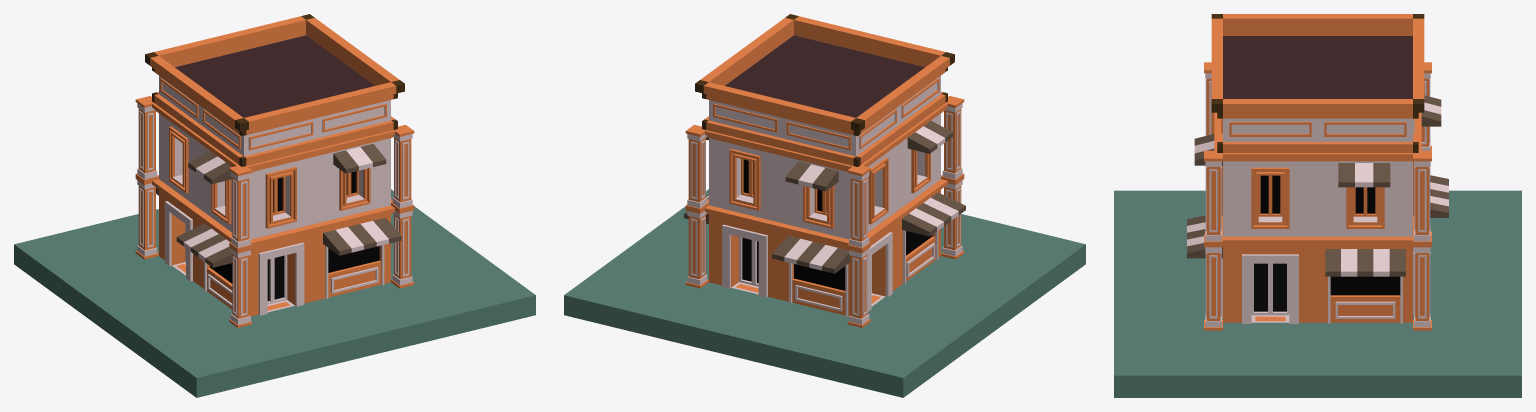
File: apartments building (1).fbx
3 renders of one model, left to right at view 1: azimuth 30°, elevation 25°; view 2: azimuth 150°, elevation 25°; view 3: azimuth 270°, elevation 25°, orthographic. The views are drawn at different scales.
Visible parts, largest first — view 1: Procedural Building, Plane.006; view 2: Procedural Building, Plane.006; view 3: Procedural Building, Plane.006.
Part boxes in pixels (bbox=[...]): Procedural Building: bbox=[135, 14, 414, 327]; Plane.006: bbox=[14, 189, 535, 397]; Procedural Building: bbox=[684, 14, 965, 327]; Plane.006: bbox=[564, 189, 1085, 397]; Procedural Building: bbox=[1187, 14, 1448, 330]; Plane.006: bbox=[1114, 190, 1521, 397].
Size of the model in its own units: 461 by 287 by 430.
